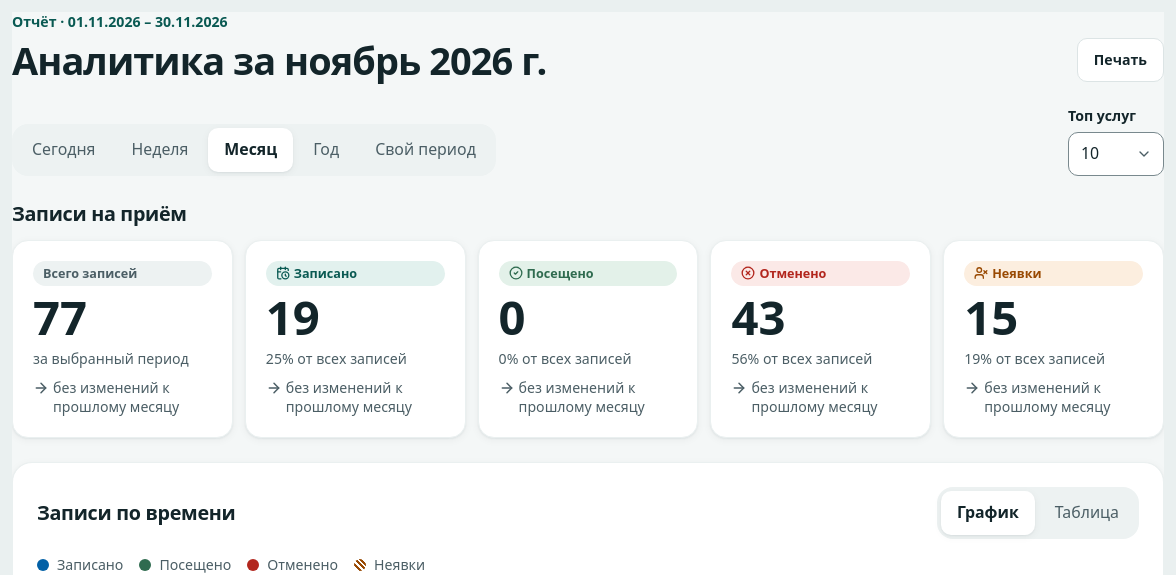
Scenario: AnalyticsPanel › should refuse a period that ends before it starts when the dates are changed
The width and height of the screenshot is (1176, 575).
Click the button "Свой период".
click(426, 150)  # box 359,128 -> 492,172
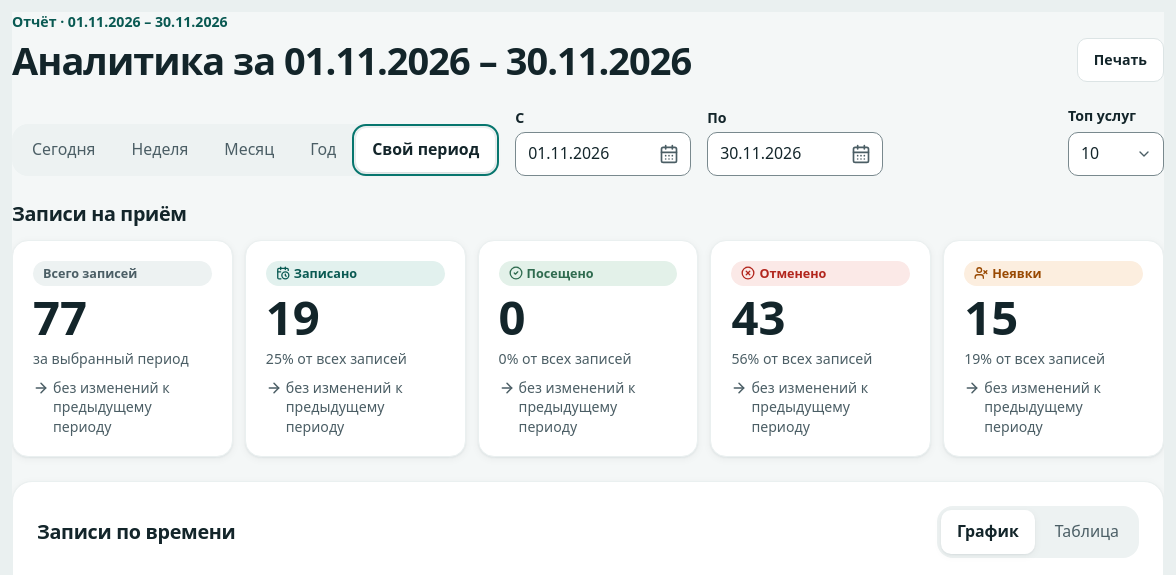
Replace the text in the field labelled "По" with "2020-12-31" at x=795, y=154, box 707,132 -> 883,176
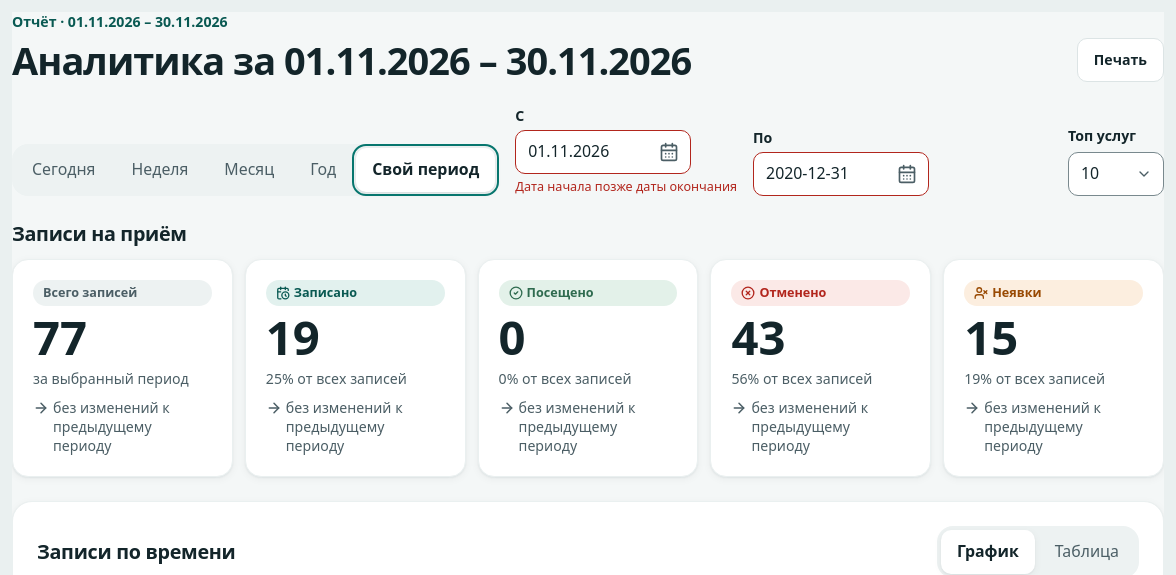
Result: the text "Дата начала позже даты окончания" is shown at 515,178 -> 737,196
